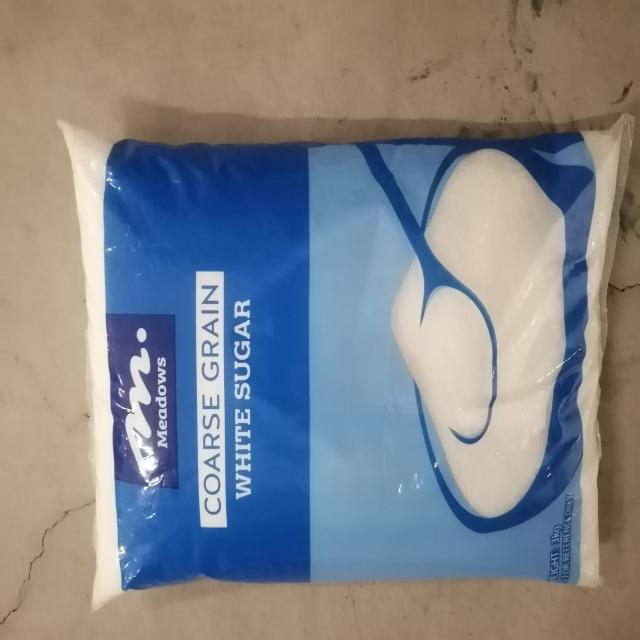object_name: (80, 140, 601, 575)
